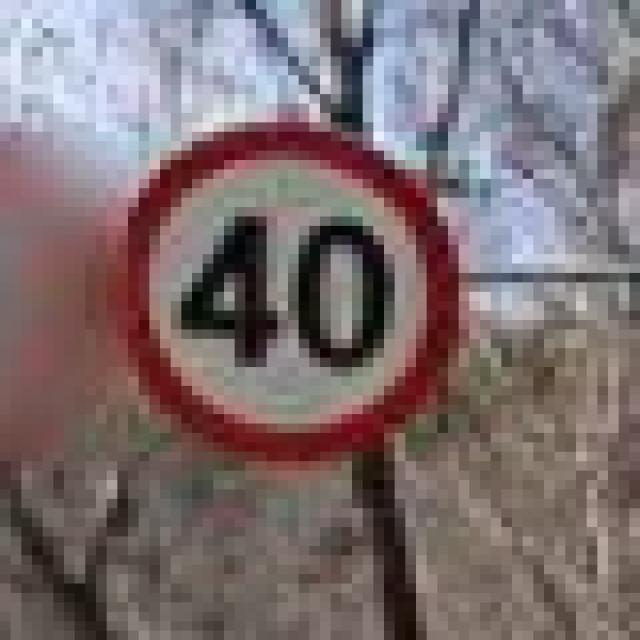Speed Limit -40-: (170, 212, 403, 371)
